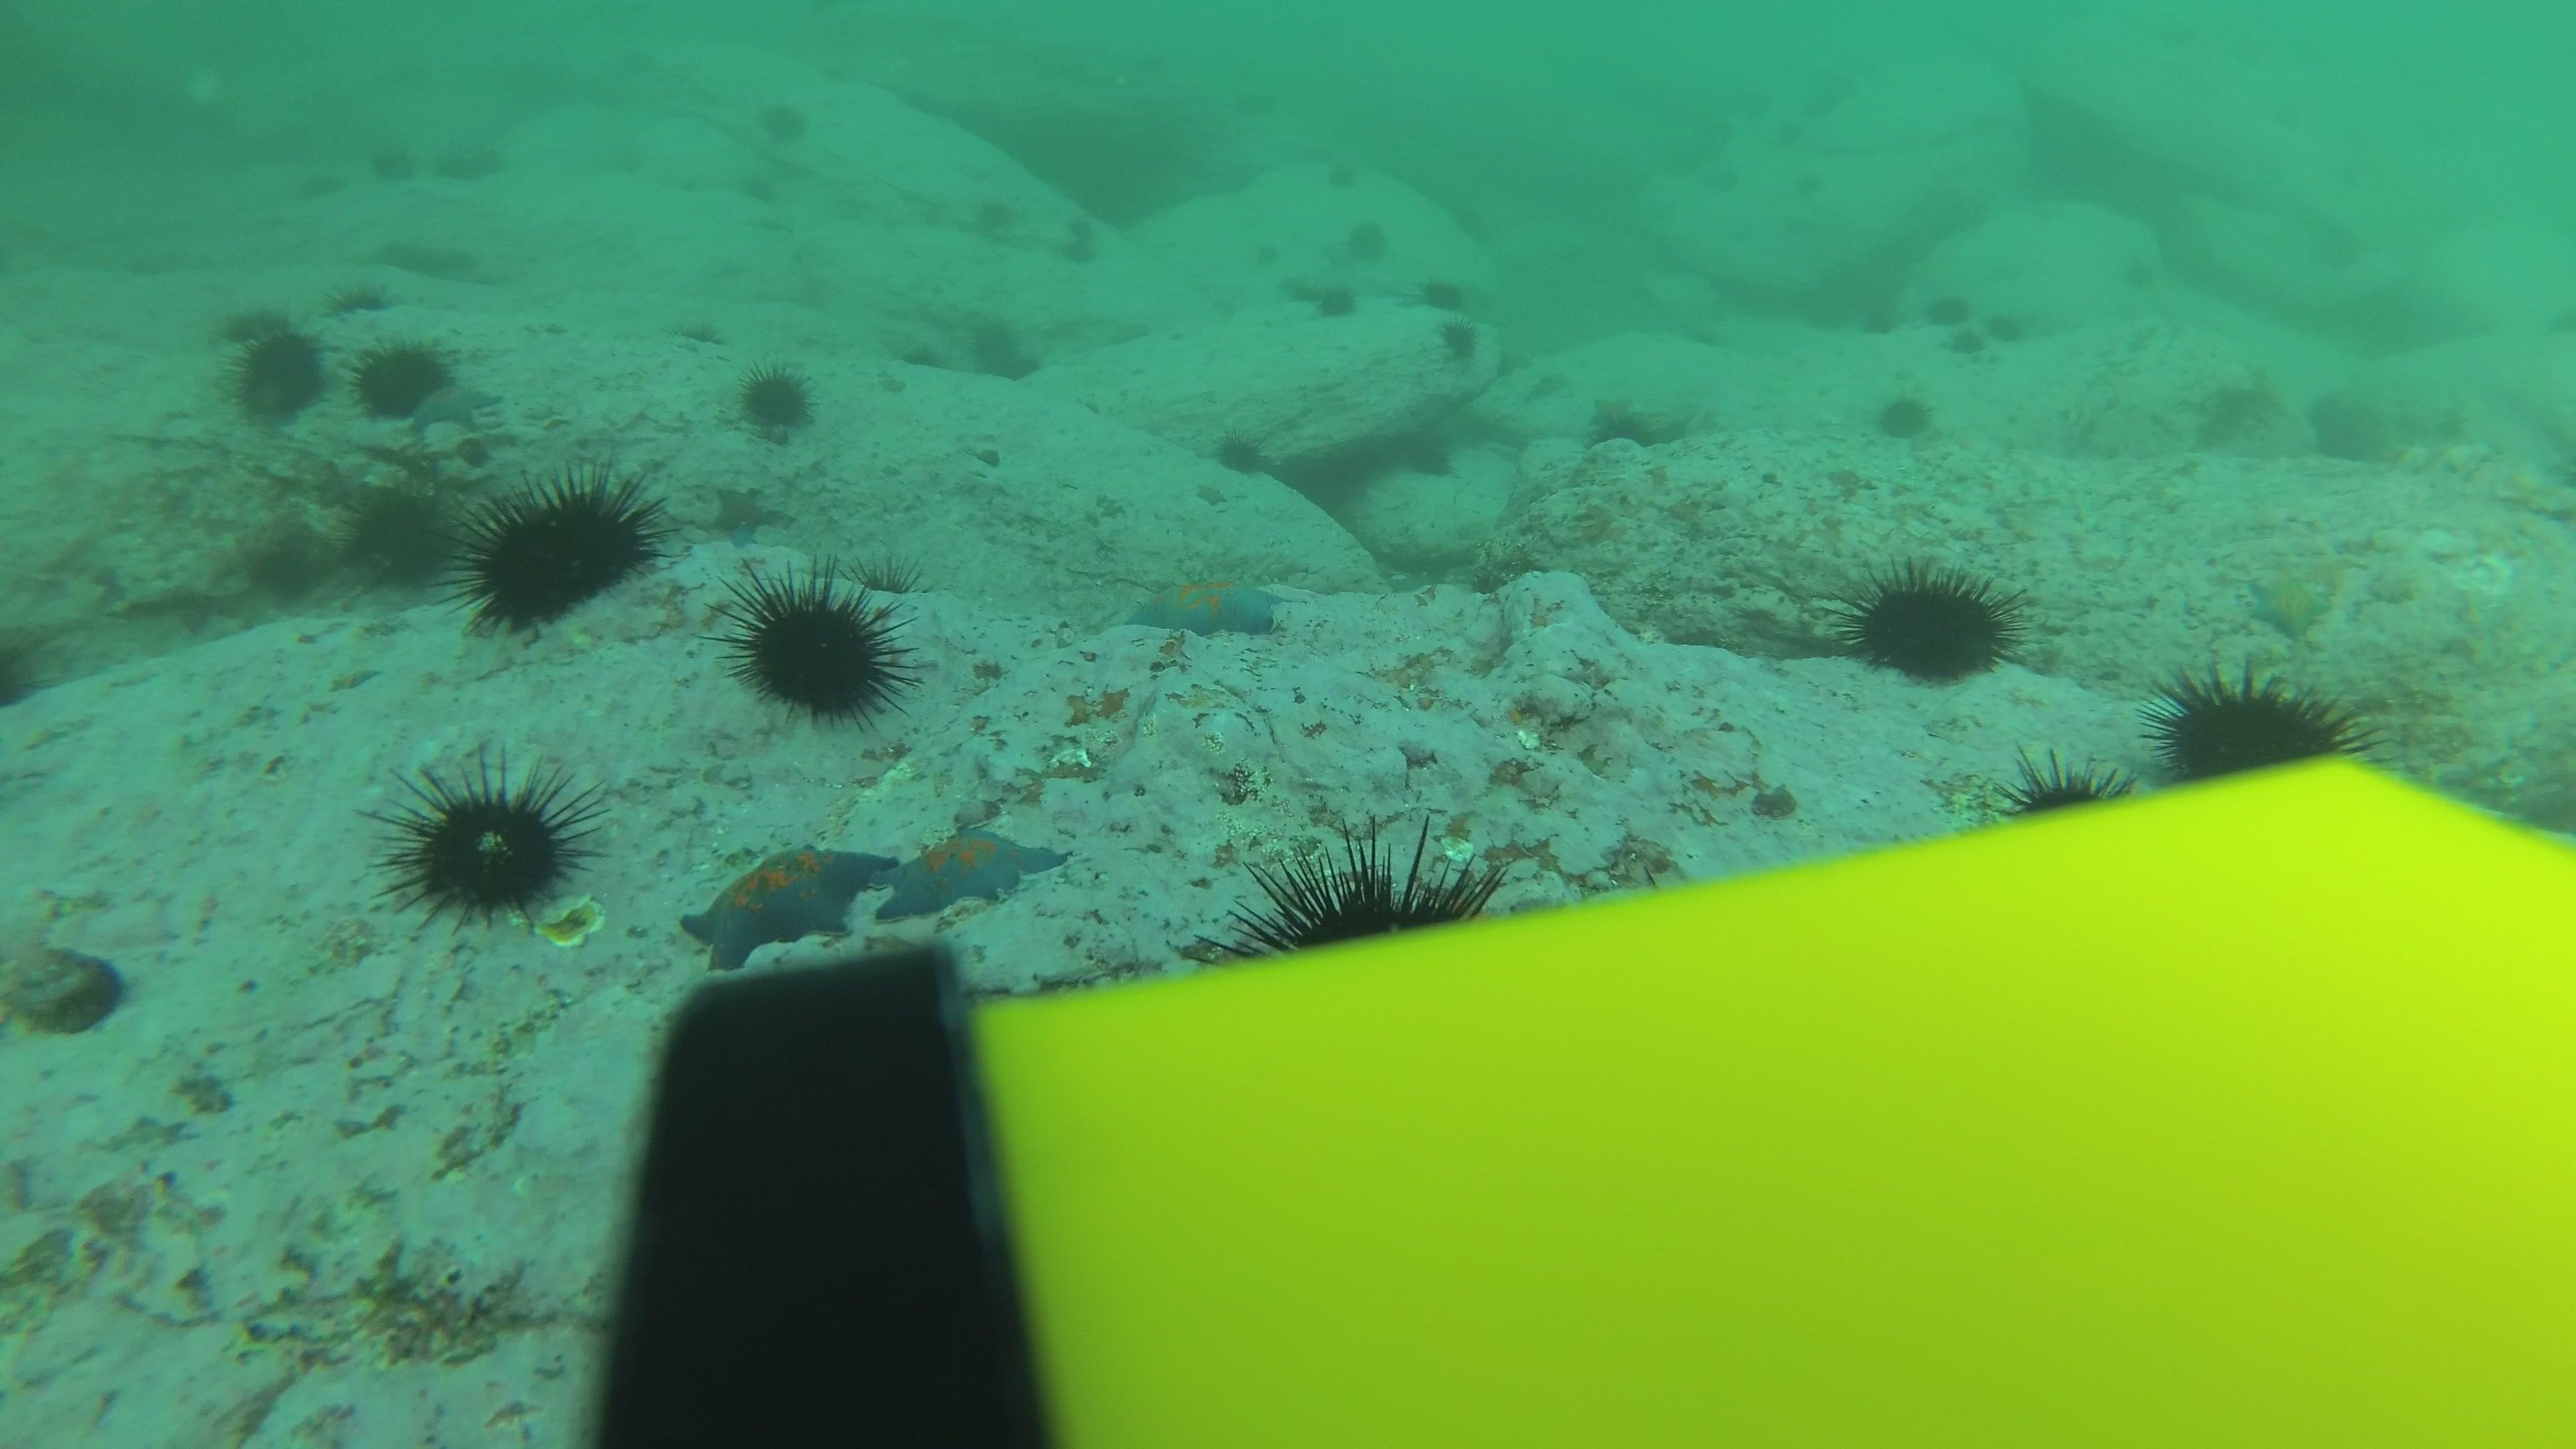echinus: (377, 748, 596, 929), (1230, 821, 1507, 955), (453, 465, 665, 635), (724, 564, 913, 731), (2146, 660, 2365, 782), (1842, 557, 2022, 688), (341, 485, 449, 589), (223, 317, 326, 425), (1996, 747, 2137, 823), (352, 333, 456, 421), (732, 359, 817, 439), (835, 545, 938, 605), (1870, 386, 1936, 444), (219, 303, 299, 345), (327, 280, 407, 322), (1210, 425, 1269, 479), (966, 313, 1019, 364), (1589, 419, 1656, 458), (892, 340, 952, 372), (295, 166, 349, 202), (370, 147, 423, 182), (425, 150, 478, 186), (462, 138, 515, 173), (672, 317, 725, 352), (763, 103, 816, 138), (1410, 439, 1454, 479), (1315, 283, 1359, 322), (1438, 318, 1477, 361), (973, 193, 1019, 228), (1350, 219, 1391, 258), (1422, 276, 1465, 313), (1927, 294, 1971, 327), (1856, 308, 1902, 340), (2123, 258, 2160, 292), (2314, 235, 2351, 269), (1688, 324, 1729, 349), (1944, 331, 1983, 356), (1985, 317, 2024, 341), (1323, 166, 1357, 195), (1704, 166, 1737, 195), (1706, 119, 1739, 147), (1739, 92, 1773, 120), (1775, 119, 1806, 147), (1063, 241, 1099, 265), (1065, 212, 1100, 237), (1293, 280, 1325, 306), (1256, 244, 1288, 271), (1794, 170, 1826, 196), (743, 180, 778, 203)
starfish: (678, 837, 904, 971), (869, 821, 1072, 925), (1123, 570, 1288, 644), (2240, 564, 2335, 640), (2388, 428, 2498, 483), (409, 377, 502, 433), (709, 483, 771, 543), (1592, 391, 1635, 425), (1189, 481, 1233, 511), (1523, 370, 1564, 402)
